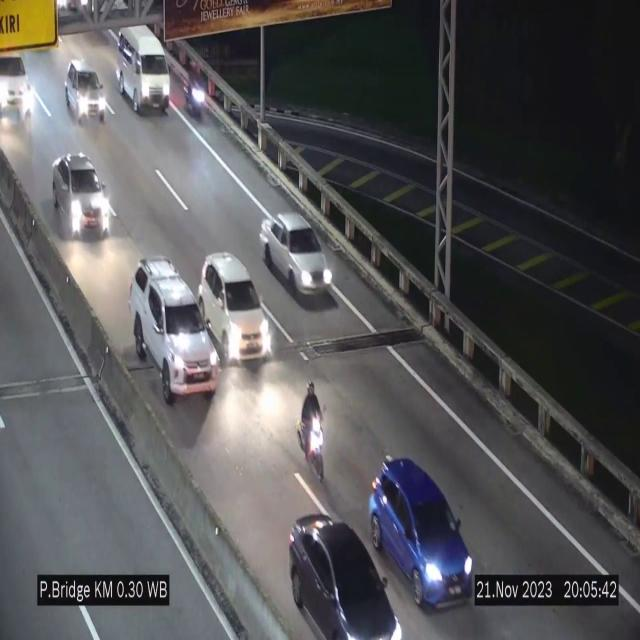Car: (368, 456, 472, 607), (289, 511, 407, 640), (130, 259, 218, 401), (200, 253, 272, 361), (260, 212, 334, 304), (54, 155, 114, 240), (117, 25, 170, 114), (0, 39, 48, 126), (65, 61, 106, 126)
Motorcycle: (296, 379, 331, 485), (181, 56, 205, 126)
